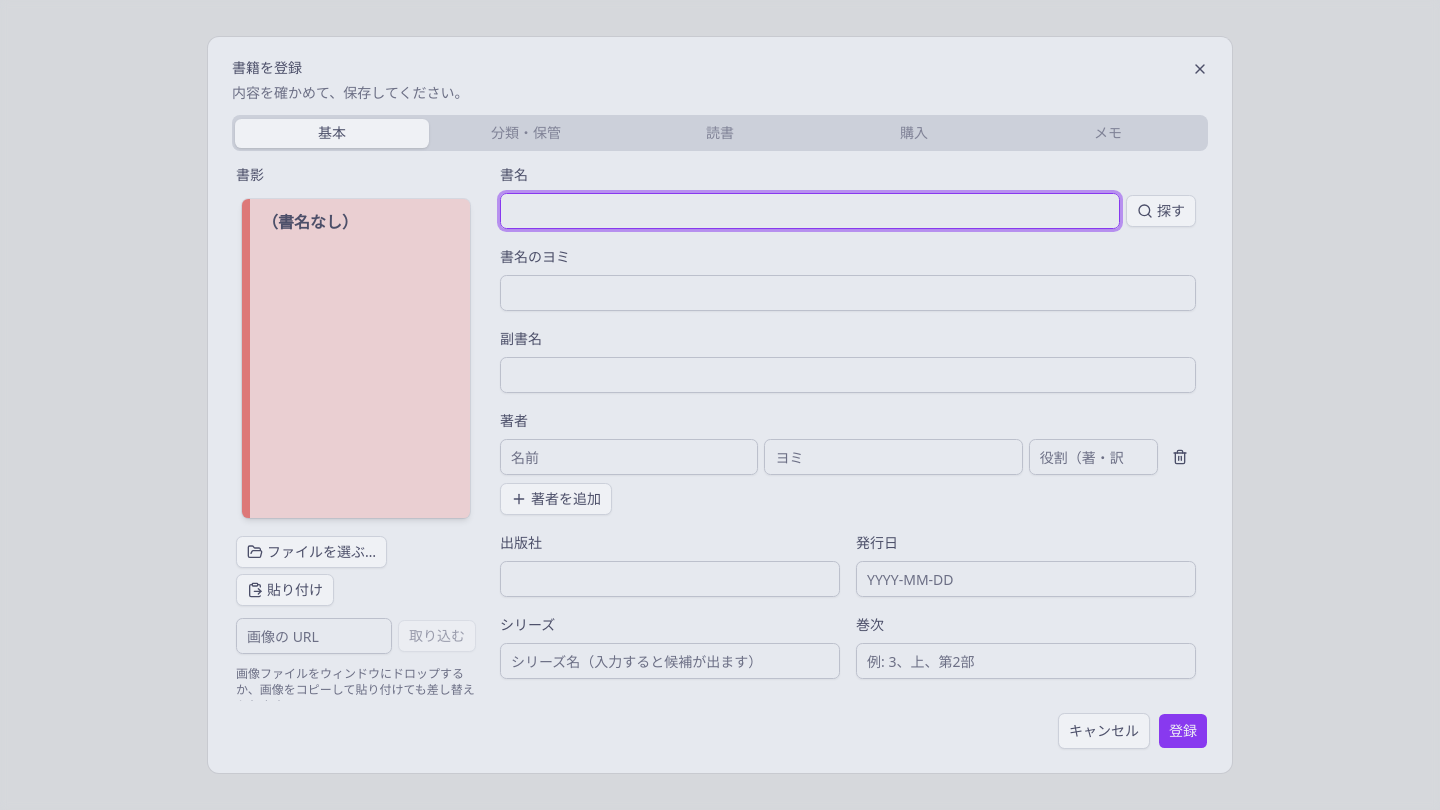
Test: 登録・編集フォーム › new › 書名が空で ISBN もないときは、検証エラーで保存しない
Expected: the field labelled "書名" is shown, top-left (500, 193), bottom-right (1120, 229)
Click the button "登録" at (1183, 731), box top-left (1158, 713), bottom-right (1208, 749)
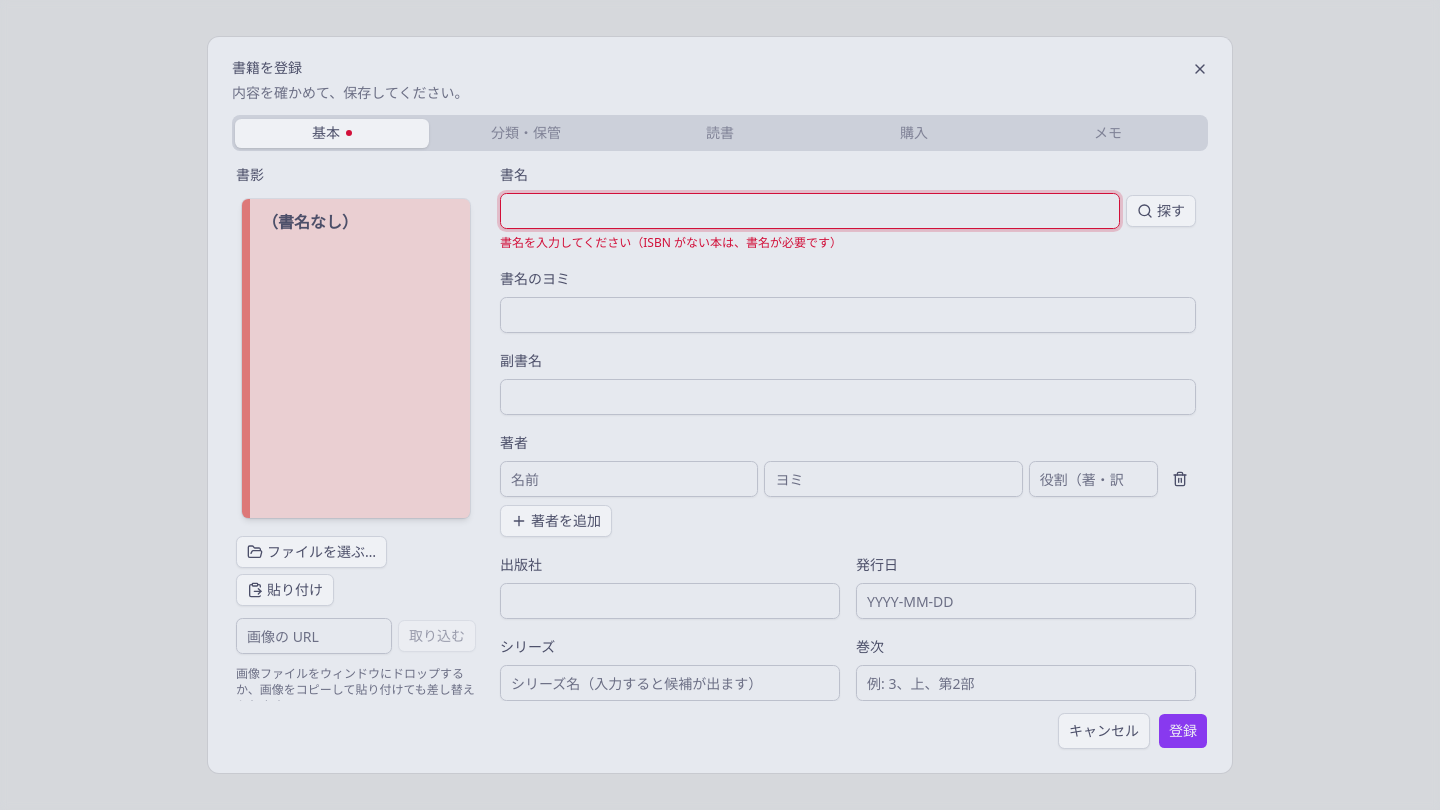
Expected: the text "書名を入力してください（ISBN がない本は、書名が必要です）" is shown, top-left (500, 234), bottom-right (842, 251)
